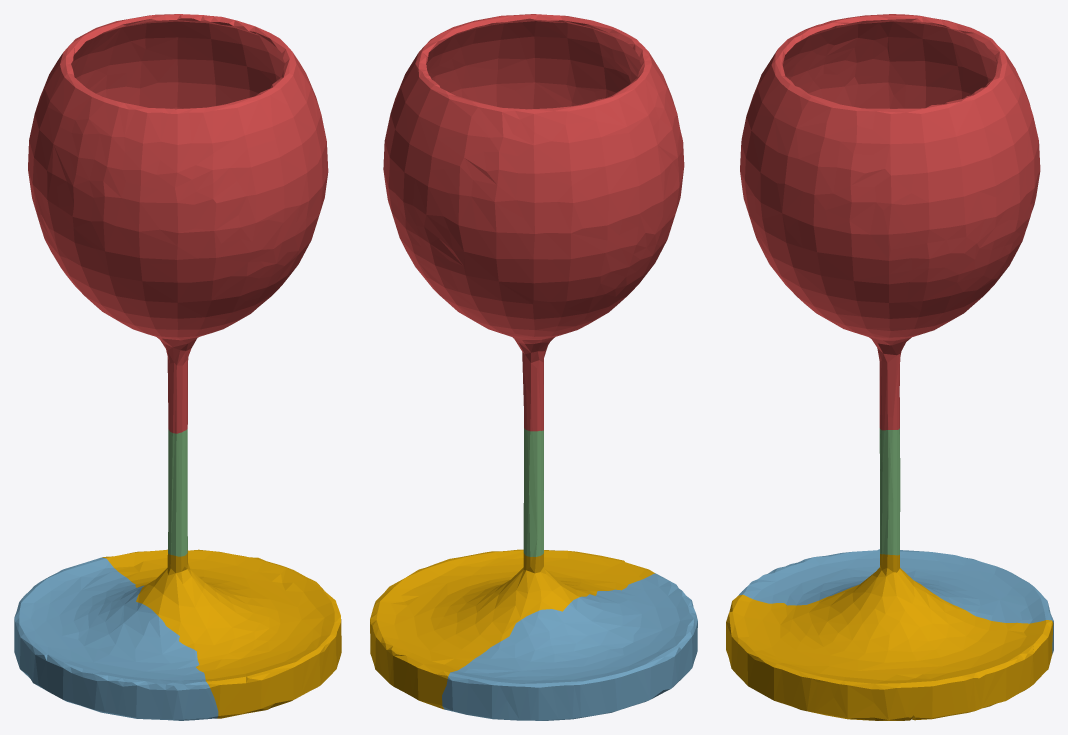
File: fractured_30_4pcs.glb
The picture shows the model from 3 angles, left to right: view 1: azimuth 30°, elevation 25°; view 2: azimuth 150°, elevation 25°; view 3: azimuth 270°, elevation 25°; orthographic projection.
Visible parts, largest first — view 1: piece_1.obj, piece_0.obj, piece_2.obj, piece_3.obj; view 2: piece_1.obj, piece_2.obj, piece_0.obj, piece_3.obj; view 3: piece_1.obj, piece_0.obj, piece_2.obj, piece_3.obj.
Part boxes in pixels (x1,y1,x2,y2): piece_1.obj: (28, 14, 328, 433); piece_0.obj: (102, 549, 341, 718); piece_2.obj: (14, 557, 218, 720); piece_3.obj: (168, 429, 187, 556); piece_1.obj: (383, 14, 684, 431); piece_2.obj: (442, 573, 697, 720); piece_0.obj: (370, 549, 654, 709); piece_3.obj: (523, 428, 543, 556); piece_1.obj: (740, 14, 1040, 430); piece_0.obj: (726, 554, 1053, 720); piece_2.obj: (738, 549, 1053, 653); piece_3.obj: (879, 428, 900, 555).
Bounding box in the file's own units: 0.5017 × 1 × 0.5019.
